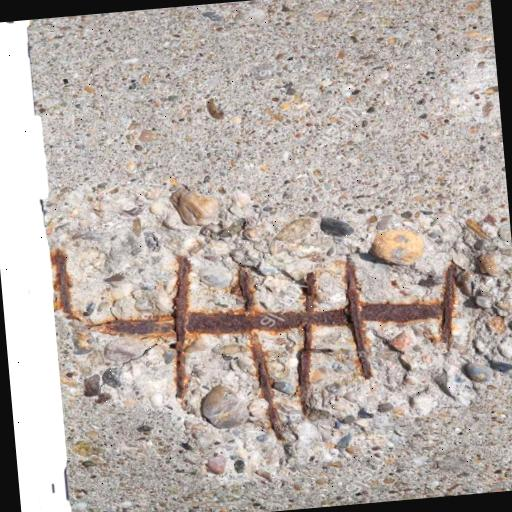spalling: (56, 142, 512, 471)
